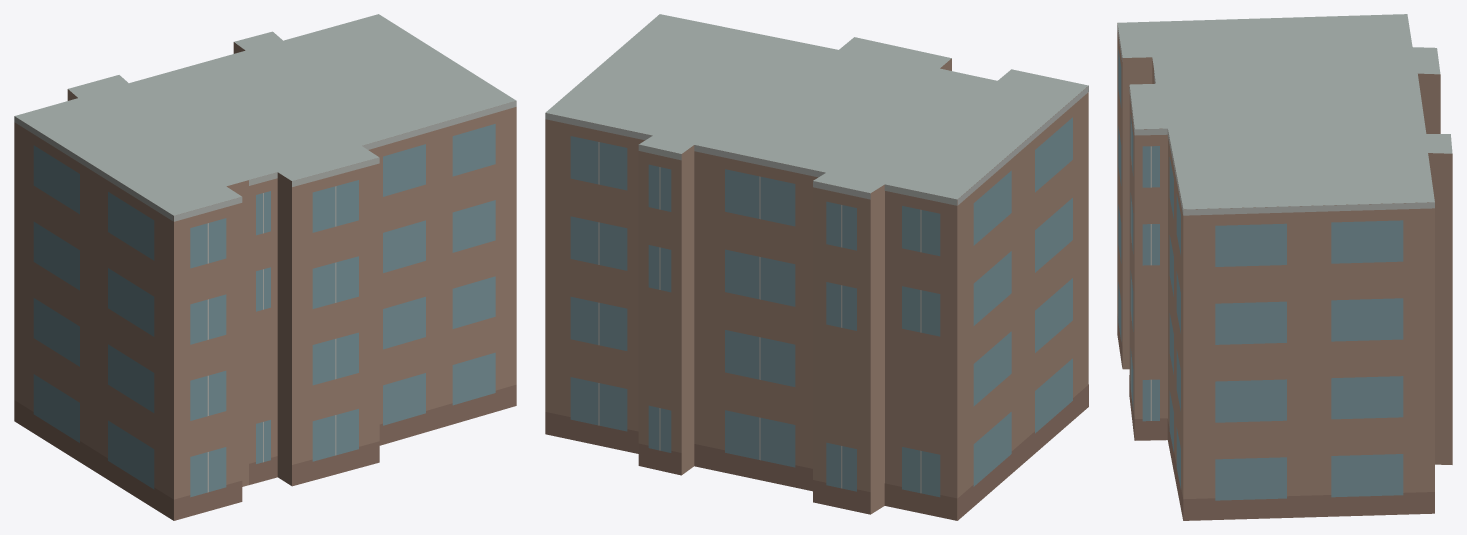
File: survey-upis-32963982.glb
The picture shows the model from 3 angles, left to right: view 1: azimuth 30°, elevation 25°; view 2: azimuth 150°, elevation 25°; view 3: azimuth 270°, elevation 25°; orthographic projection. The views are drawn at different scales.
Parts seen in each view (by area): view 1: survey-upis-32963982.tmp; view 2: survey-upis-32963982.tmp; view 3: survey-upis-32963982.tmp.
Part boxes in pixels (bbox=[...]): survey-upis-32963982.tmp: bbox=[14, 14, 516, 520]; survey-upis-32963982.tmp: bbox=[545, 14, 1088, 520]; survey-upis-32963982.tmp: bbox=[1117, 14, 1452, 520].
Bounding box in the file's own units: 16.57 × 12.3 × 12.01.
